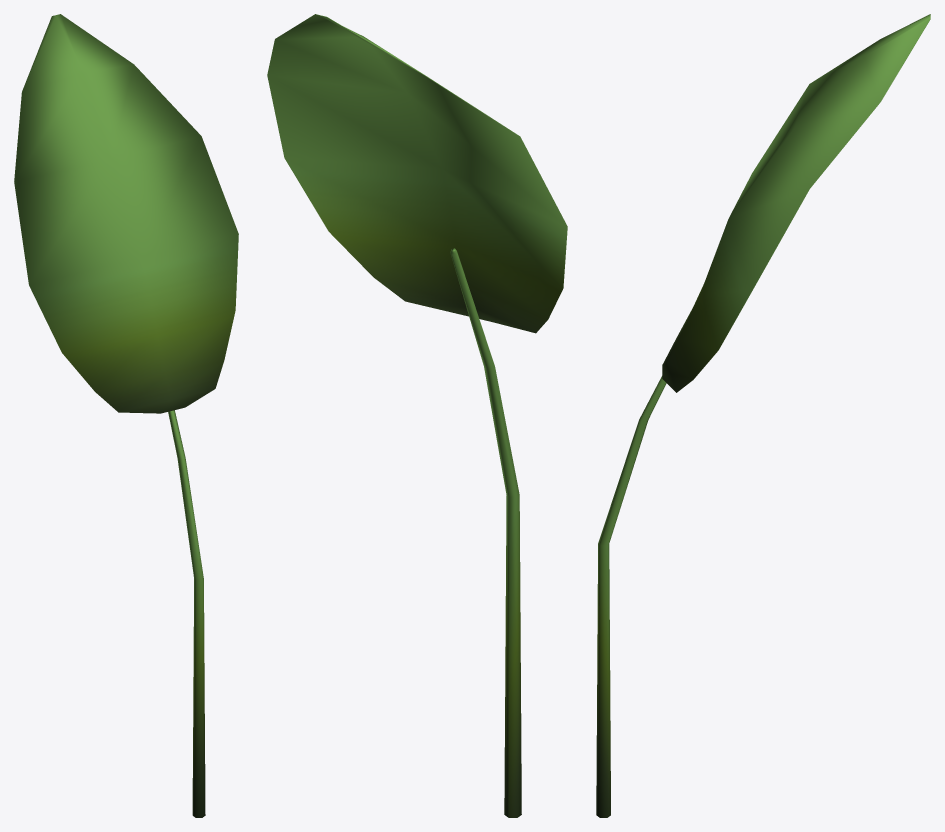
Rendered from planta relleno 1.fbx.
3 views of the same model, side by side, from view 1: azimuth 30°, elevation 25°; view 2: azimuth 150°, elevation 25°; view 3: azimuth 270°, elevation 25° (orthographic). The views are drawn at different scales.
Visible parts, largest first — view 1: base stem.032; view 2: base stem.032; view 3: base stem.032.
Part boxes in pixels (x1,y1,x2,y2): base stem.032: [14, 14, 238, 817]; base stem.032: [267, 14, 567, 817]; base stem.032: [596, 14, 930, 817].
Bounding box in the file's own units: 894 × 2835 × 1076.
